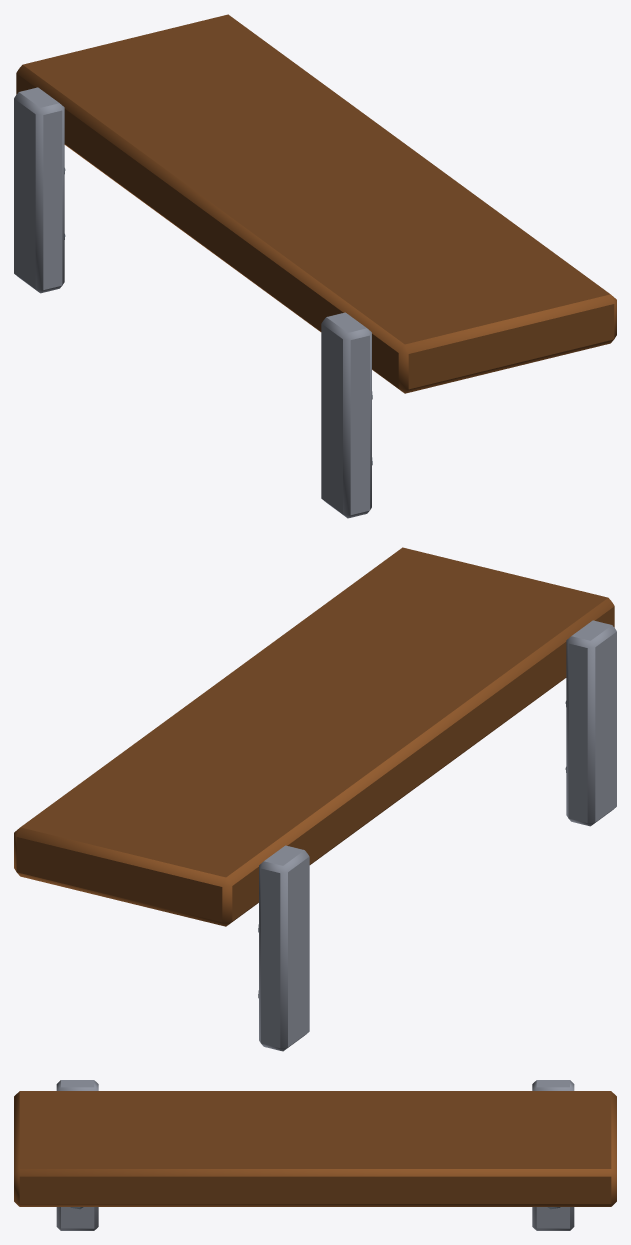
File: HangShelf_1_B.glb
The picture shows the model from 3 angles, top to bottom: view 1: azimuth 30°, elevation 25°; view 2: azimuth 150°, elevation 25°; view 3: azimuth 270°, elevation 25°; orthographic projection. The views are drawn at different scales.
Visible parts, largest first — view 1: HangShelf_1_B; view 2: HangShelf_1_B; view 3: HangShelf_1_B.
Boxes of the visible parts, x1,y1,x2,y2 form: HangShelf_1_B: [14, 14, 616, 518]; HangShelf_1_B: [14, 547, 616, 1051]; HangShelf_1_B: [14, 1080, 616, 1230].
Bounding box in the file's own units: 0.5071 × 0.3647 × 1.38.
2 materials, 2 textured.
